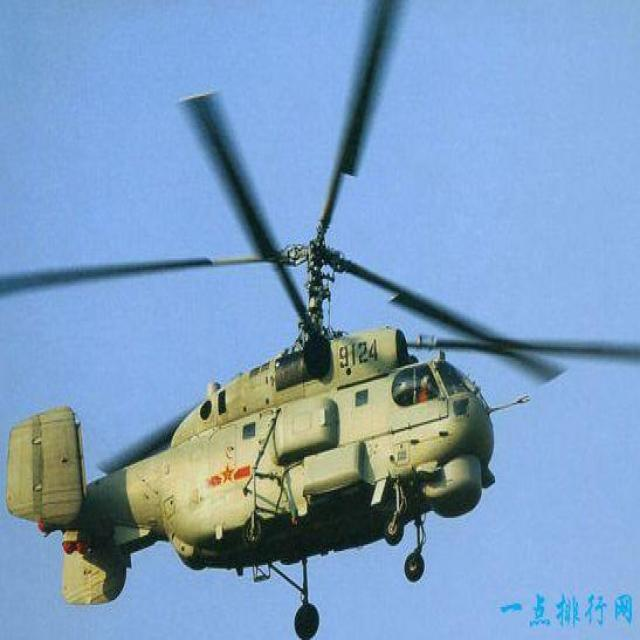MIL_HELO: (4, 2, 603, 640)
